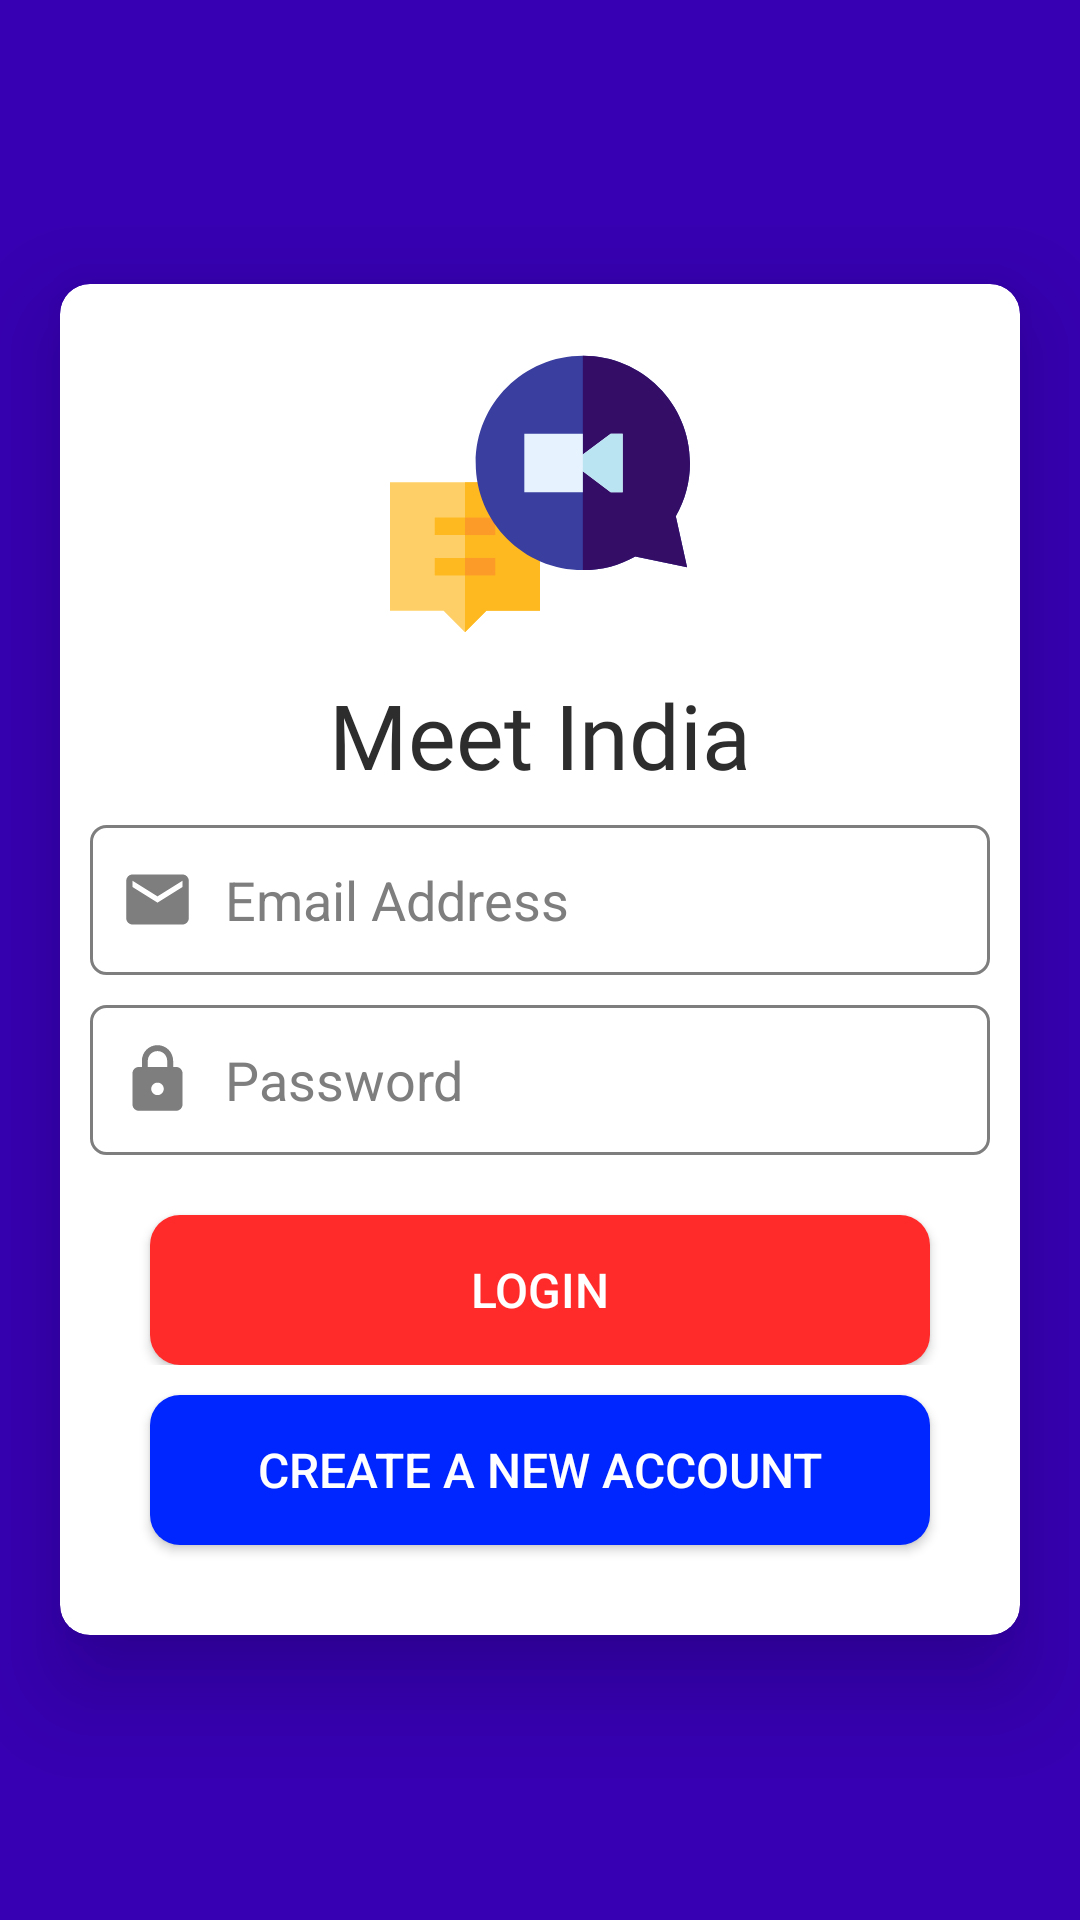

Locate icon controls on the screen. Image size 1080×1920, boxes as (x1, y1, x2, y2).
online meeting: (390, 355, 690, 632)
